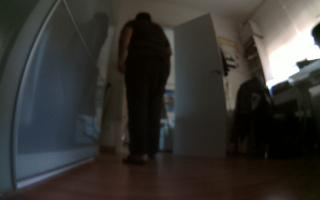person: (112, 7, 175, 169)
